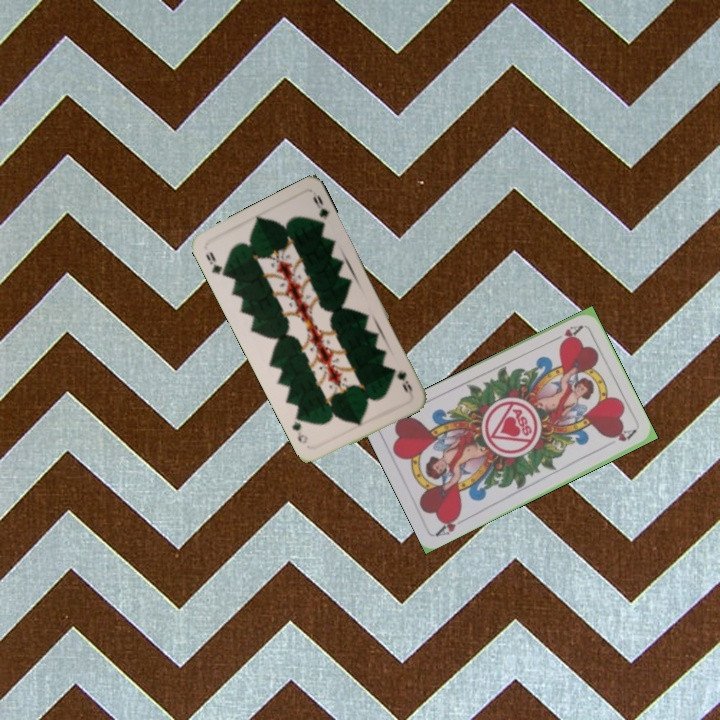G9: (201, 248, 230, 280), (394, 368, 415, 394)
HA: (432, 510, 470, 539), (547, 321, 585, 347)
